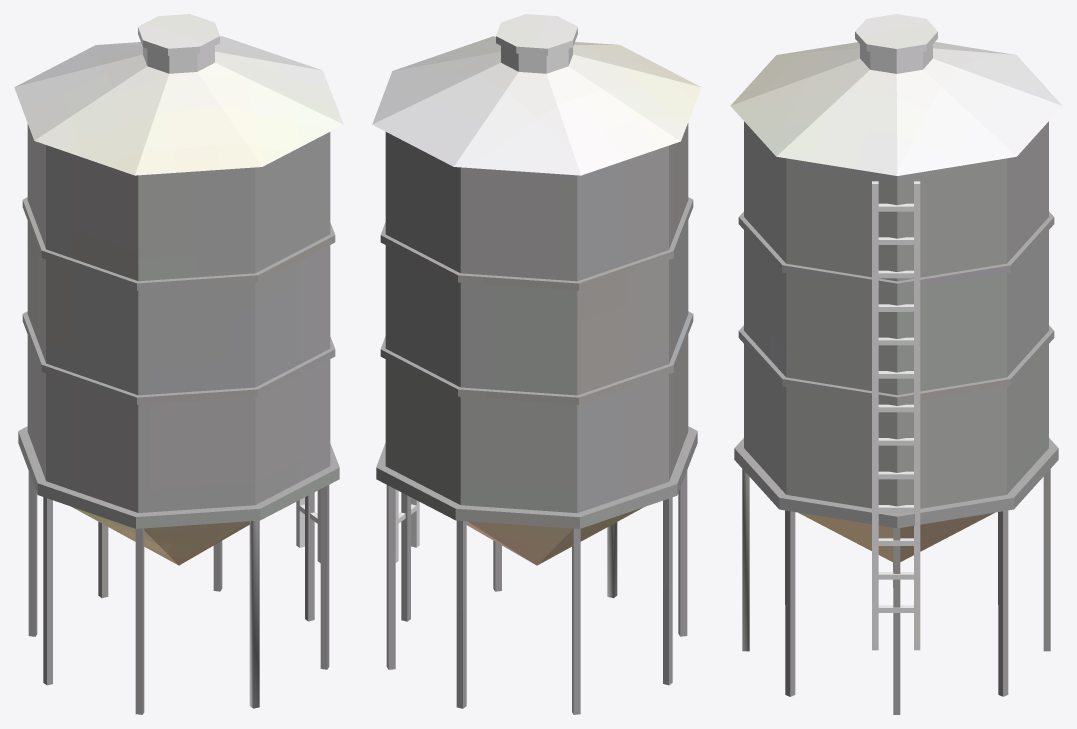
The picture shows the model from 3 angles, left to right: view 1: azimuth 30°, elevation 25°; view 2: azimuth 150°, elevation 25°; view 3: azimuth 270°, elevation 25°; orthographic projection.
Parts seen in each view (by area): view 1: Cube.015_Cube.022; view 2: Cube.015_Cube.022; view 3: Cube.015_Cube.022.
Part boxes in pixels (x1=…): Cube.015_Cube.022: x1=14, y1=14, x2=343, y2=714; Cube.015_Cube.022: x1=372, y1=14, x2=701, y2=714; Cube.015_Cube.022: x1=730, y1=14, x2=1062, y2=714.
Bounding box in the file's own units: 0.487 × 1 × 0.487.
Materials: 1 (1 with a texture image).
